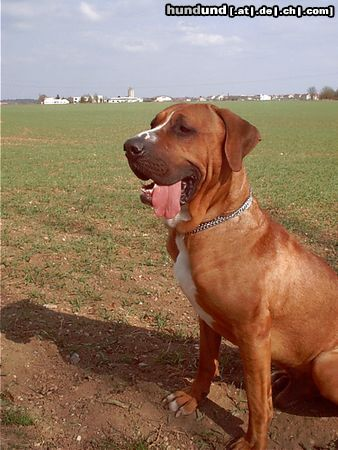tosa_inu: (121, 101, 338, 450)
